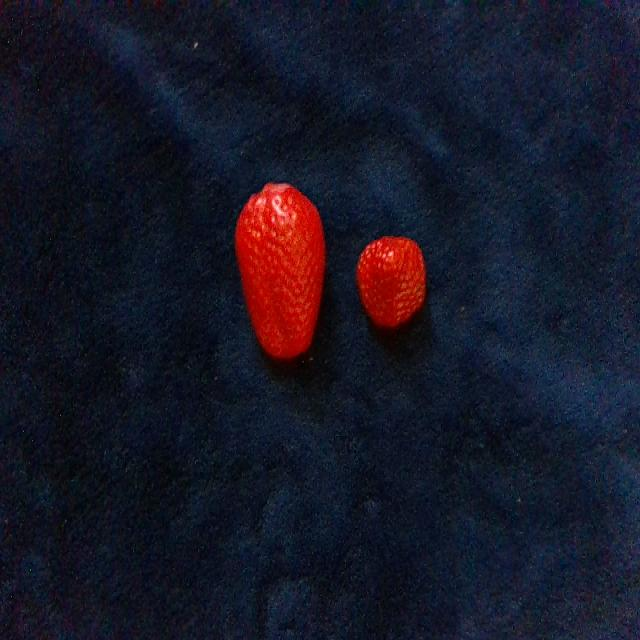chica_roja: (357, 236, 425, 327)
grande_roja: (235, 184, 324, 357)
